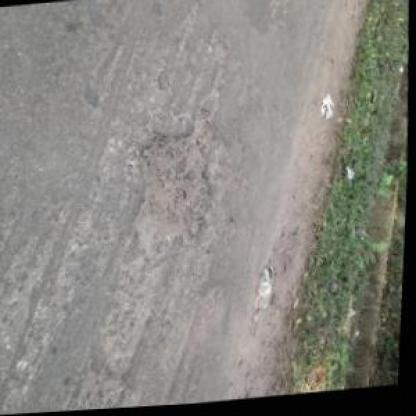pothole: (129, 110, 222, 260)
